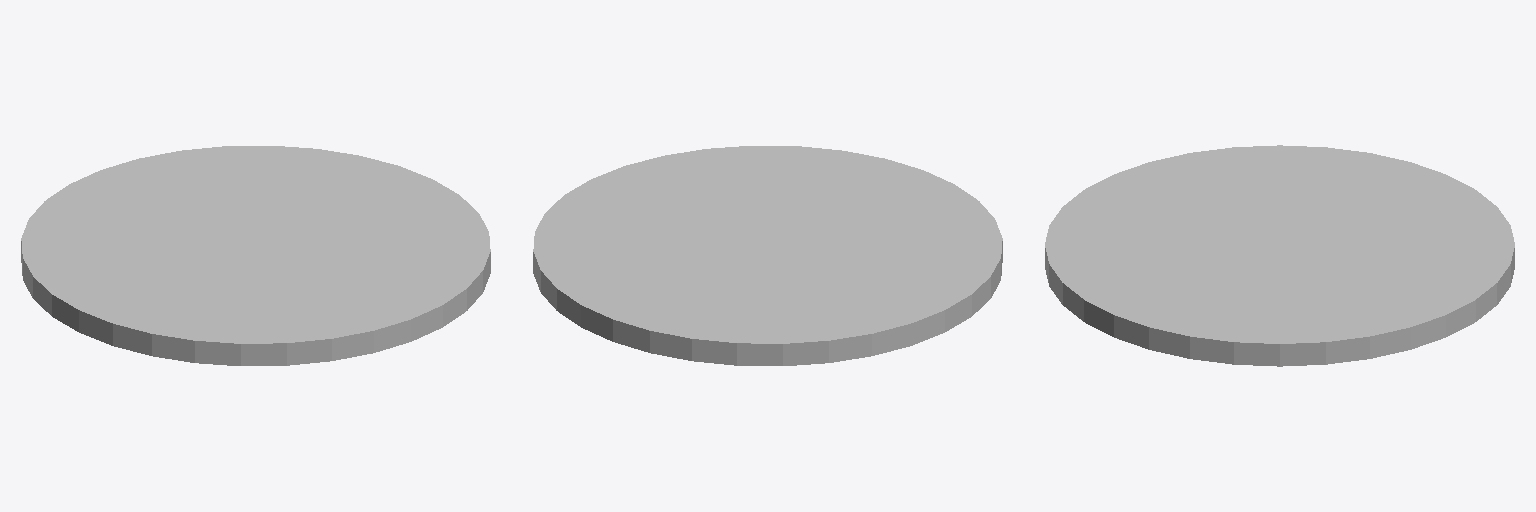
File: TwoZoneHead_Inner.obj
3 views of the same model, side by side, from view 1: azimuth 30°, elevation 25°; view 2: azimuth 150°, elevation 25°; view 3: azimuth 270°, elevation 25° (orthographic).
Visible parts, largest first — view 1: Cylinder.001; view 2: Cylinder.001; view 3: Cylinder.001.
Part boxes in pixels (bbox=[...]): Cylinder.001: bbox=[21, 146, 490, 365]; Cylinder.001: bbox=[533, 146, 1002, 365]; Cylinder.001: bbox=[1045, 145, 1514, 366].
Size of the model in its own units: 6.59 by 0.3475 by 6.59.